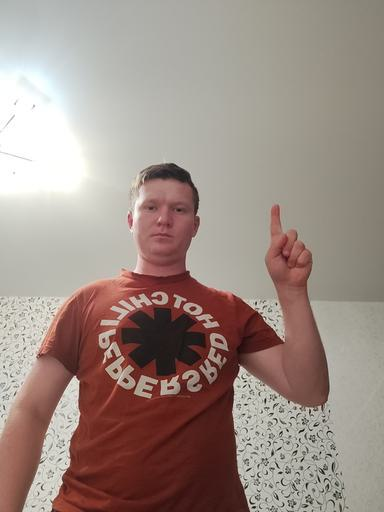one: (262, 201, 315, 293)
